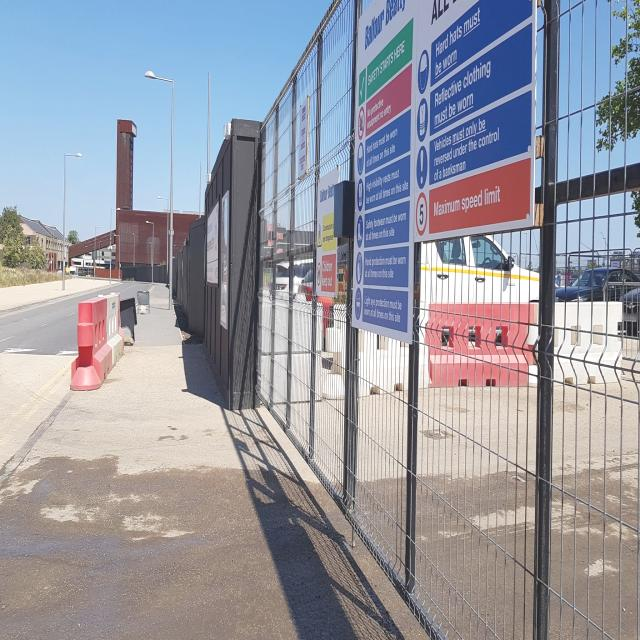car: (565, 266, 625, 302), (602, 268, 640, 301), (554, 267, 577, 300)
